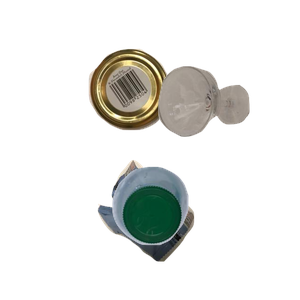glass: (156, 64, 300, 194)
metal: (86, 46, 248, 169)
plastic: (110, 164, 300, 300)
trash: (95, 157, 282, 300)
